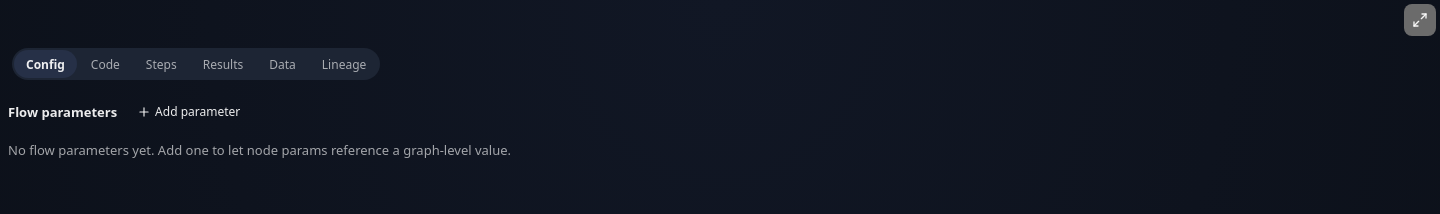
Scenario: clicking view-in-code in Steps tab switches to the Code tab
The width and height of the screenshot is (1440, 214).
Click the button with test id "inspector-tab-steps": {"x": 161, "y": 64} top-left (134, 50), bottom-right (189, 78)
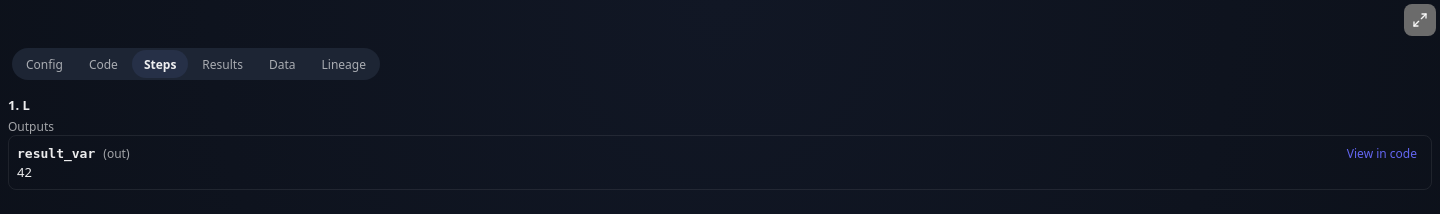
Now the element with test id "steps-list" is shown, box top-left (8, 96), bottom-right (1432, 190)
Click the button with test id "steps-view-in-code": {"x": 1382, "y": 154} top-left (1341, 144), bottom-right (1423, 163)
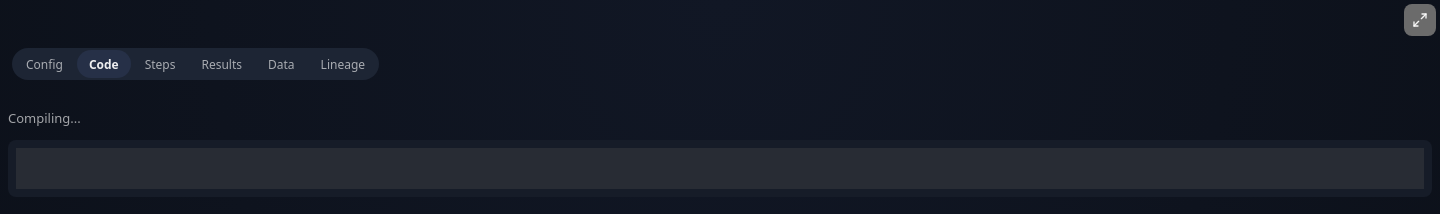
Now the element with test id "code-output" is shown, box top-left (8, 140), bottom-right (1432, 197)
